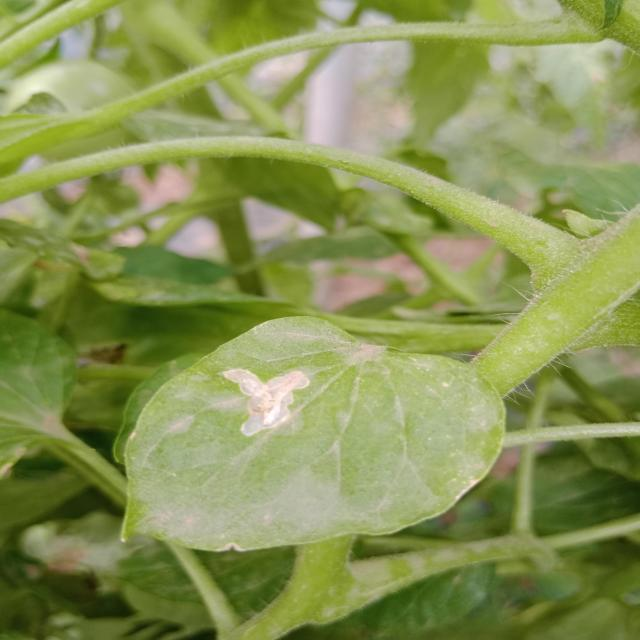Tuta absoluta: (221, 346, 320, 438)
